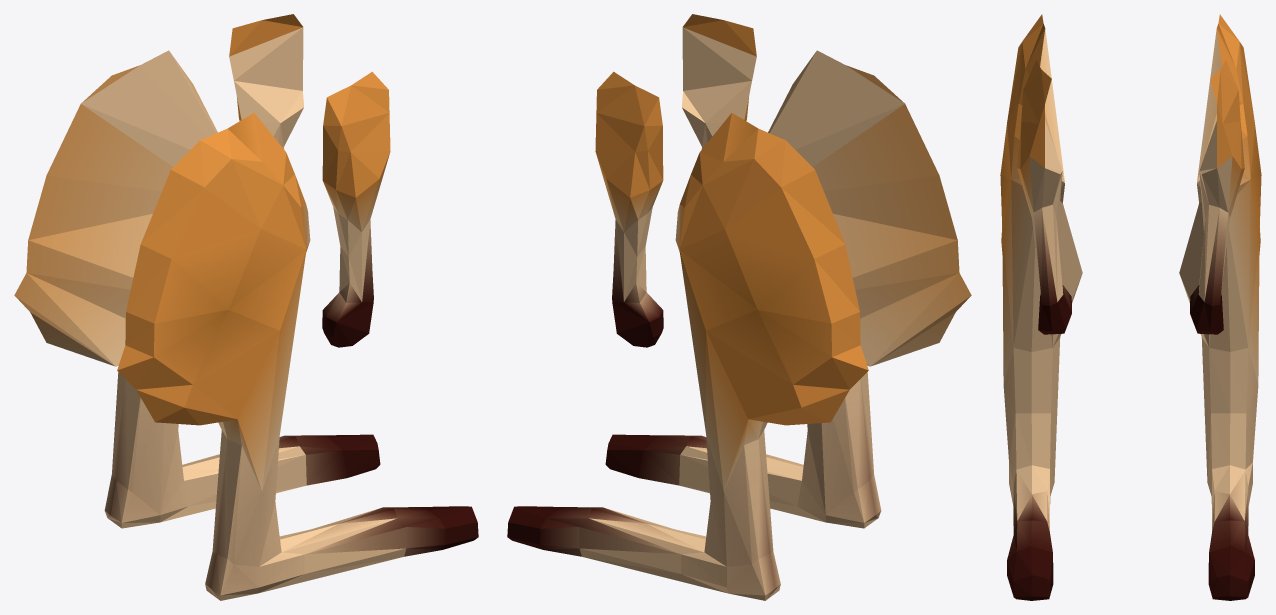
File: kangaroo_legs.obj
3 renders of one model, left to right at view 1: azimuth 30°, elevation 25°; view 2: azimuth 150°, elevation 25°; view 3: azimuth 270°, elevation 25°, orthographic.
Visible parts, largest first — view 1: Plane.002; view 2: Plane.002; view 3: Plane.002.
Boxes of the visible parts, bbox=[...] form: Plane.002: bbox=[14, 14, 478, 600]; Plane.002: bbox=[507, 14, 971, 600]; Plane.002: bbox=[1000, 14, 1261, 600].
Bounding box in the file's own units: 0.8807 × 1.12 × 0.5509.
